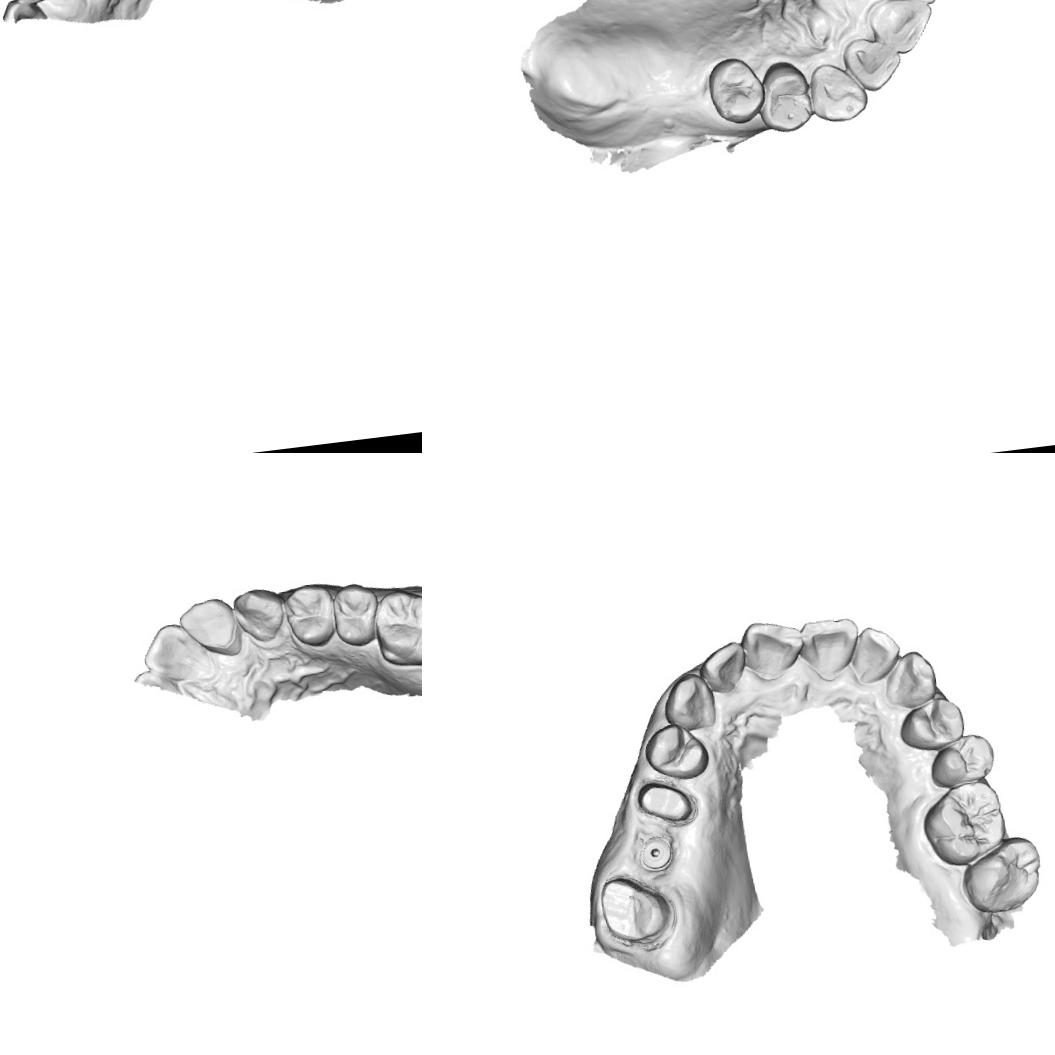canine: (806, 58, 872, 126), (878, 647, 942, 712), (658, 669, 721, 735), (230, 584, 290, 647)
crown: (593, 870, 678, 954), (633, 775, 698, 830)
implant: (634, 829, 674, 872)
incisor: (736, 614, 809, 686), (137, 619, 212, 687), (176, 595, 244, 662), (798, 614, 865, 681), (865, 0, 937, 58), (846, 621, 905, 687), (842, 32, 904, 94), (696, 639, 748, 698)
molar: (917, 774, 1012, 872), (956, 831, 1050, 919), (369, 582, 422, 671)
premolar: (274, 581, 342, 655), (640, 718, 713, 786), (704, 53, 769, 128), (754, 58, 816, 136), (892, 692, 970, 754), (926, 730, 1000, 791), (330, 580, 384, 650)
